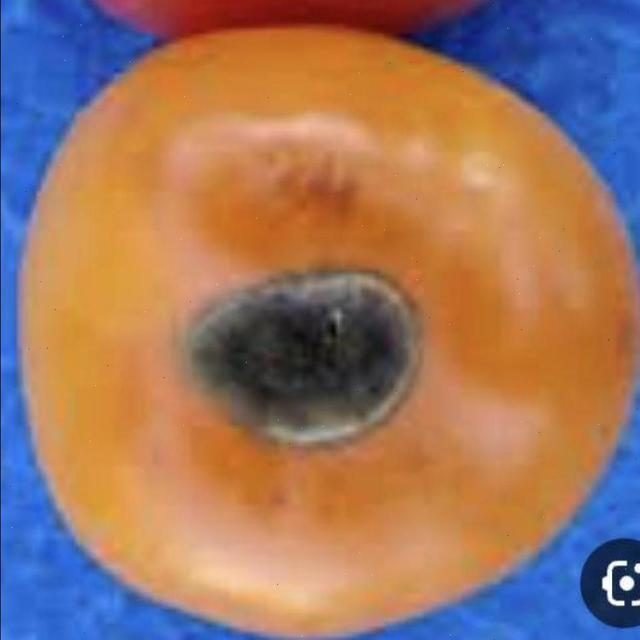Blossom End Rot Fruit: (113, 175, 275, 302)
